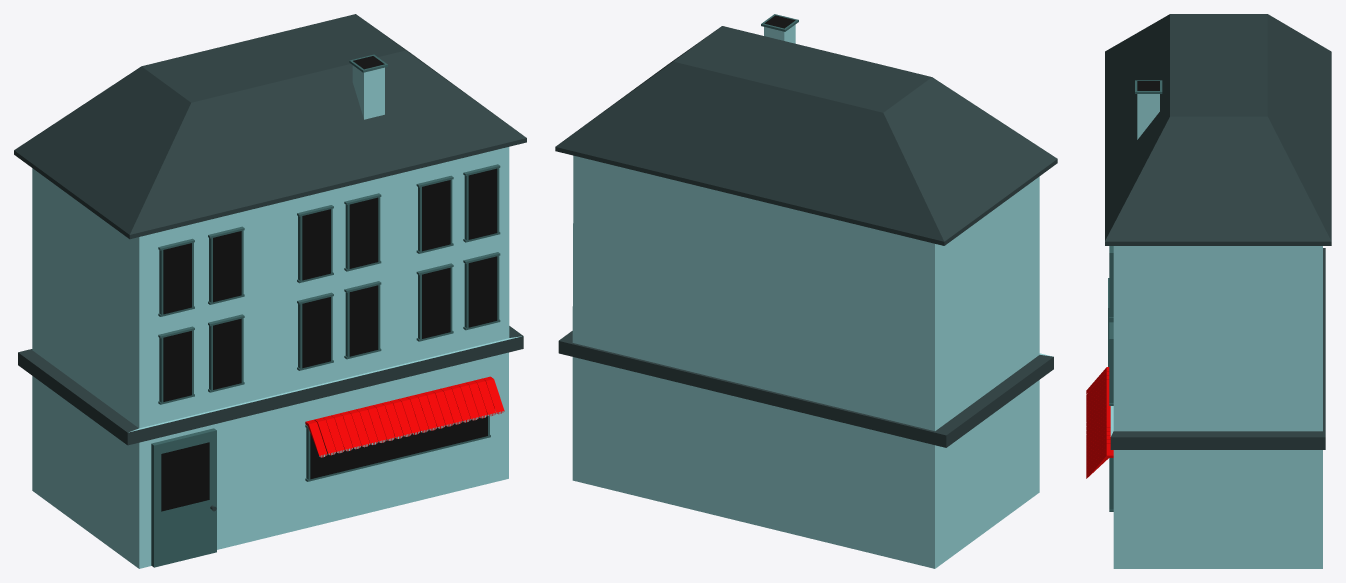
The model's file is predio_comercial.fbx.
3 views of the same model, side by side, from view 1: azimuth 30°, elevation 25°; view 2: azimuth 150°, elevation 25°; view 3: azimuth 270°, elevation 25° (orthographic). The views are drawn at different scales.
Visible parts, largest first — view 1: predio_comercial; view 2: predio_comercial; view 3: predio_comercial.
Boxes of the visible parts, bbox=[...] form: predio_comercial: bbox=[14, 14, 526, 568]; predio_comercial: bbox=[555, 14, 1057, 568]; predio_comercial: bbox=[1086, 14, 1331, 568].
Bounding box in the file's own units: 605 × 630 × 330.
